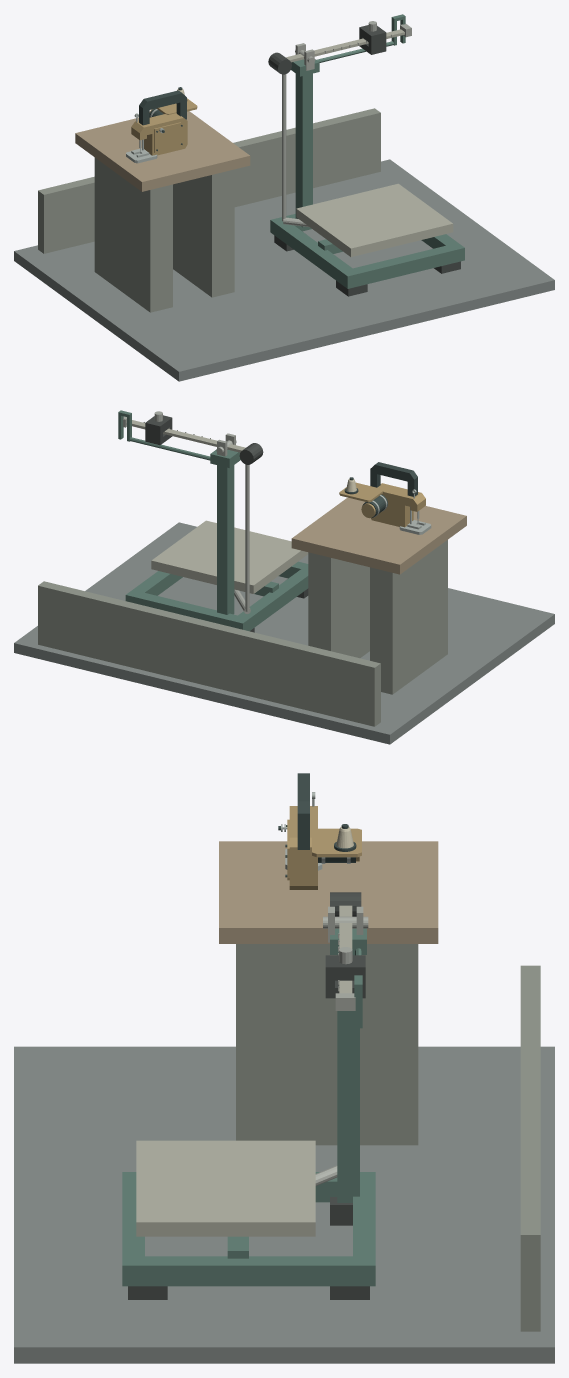
3 renders of one model, top to bottom at view 1: azimuth 30°, elevation 25°; view 2: azimuth 150°, elevation 25°; view 3: azimuth 270°, elevation 25°, orthographic. The views are drawn at different scales.
Parts seen in each view (by area): view 1: SCENE_ONLY__WholeCommonFloor, SCENE_ONLY__WholeLowRearBoundary, SCENE_ONLY__WholeLeftShelfPier, scale__WholeBroadParcelPlatform, SCENE_ONLY__WholeRightShelfPier, SCENE_ONLY__WholeRaisedLeftShelf, scale__WholeOpenBaseFrame, scale__WholeRearBeamColumn, closer__WholeShortAsymmetricDriveHousing, closer__WholeContinuousOpenCarryFrame, closer__WholePlainFrontCasePlate, scale__WholeVerticalTransferRod (+2 smaller); view 2: SCENE_ONLY__WholeLowRearBoundary, SCENE_ONLY__WholeCommonFloor, SCENE_ONLY__WholeLeftShelfPier, SCENE_ONLY__WholeRaisedLeftShelf, SCENE_ONLY__WholeRightShelfPier, scale__WholeBroadParcelPlatform, scale__WholeOpenBaseFrame, scale__WholeRearBeamColumn, closer__WholeShortAsymmetricDriveHousing, closer__WholeContinuousOpenCarryFrame, scale__WholeVerticalTransferRod, scale__WholeBoredRectangularPoise (+2 smaller); view 3: SCENE_ONLY__WholeCommonFloor, SCENE_ONLY__WholeRightShelfPier, SCENE_ONLY__WholeRaisedLeftShelf, scale__WholeBroadParcelPlatform, scale__WholeOpenBaseFrame, SCENE_ONLY__WholeLowRearBoundary, scale__WholeRearBeamColumn, closer__WholeShortAsymmetricDriveHousing, scale__WholeBoredRectangularPoise, closer__WholeRearSpoolSupportShelf, closer__WholeContinuousOpenCarryFrame, scale__WholeUnequalArmWeighBeam.
Boxes of the visible parts, box(x1,y1,x2,y2) form: SCENE_ONLY__WholeCommonFloor: box(14, 159, 554, 381); SCENE_ONLY__WholeLowRearBoundary: box(38, 108, 380, 253); SCENE_ONLY__WholeLeftShelfPier: box(94, 157, 172, 312); scale__WholeBroadParcelPlatform: box(296, 183, 453, 256); SCENE_ONLY__WholeRightShelfPier: box(173, 169, 234, 297); SCENE_ONLY__WholeRaisedLeftShelf: box(75, 111, 250, 191); scale__WholeOpenBaseFrame: box(270, 214, 464, 288); scale__WholeRearBeamColumn: box(295, 59, 312, 227); closer__WholeShortAsymmetricDriveHousing: box(131, 113, 187, 155); closer__WholeContinuousOpenCarryFrame: box(139, 90, 186, 125); closer__WholePlainFrontCasePlate: box(154, 122, 184, 152); scale__WholeVerticalTransferRod: box(282, 74, 286, 221); SCENE_ONLY__WholeLowRearBoundary: box(38, 581, 380, 726); SCENE_ONLY__WholeCommonFloor: box(14, 522, 554, 744); SCENE_ONLY__WholeLeftShelfPier: box(370, 540, 447, 694); SCENE_ONLY__WholeRaisedLeftShelf: box(291, 497, 466, 574); SCENE_ONLY__WholeRightShelfPier: box(308, 552, 369, 658); scale__WholeBroadParcelPlatform: box(151, 520, 308, 593); scale__WholeOpenBaseFrame: box(125, 561, 308, 631); scale__WholeRearBeamColumn: box(217, 450, 234, 614); closer__WholeShortAsymmetricDriveHousing: box(371, 483, 425, 527); closer__WholeContinuousOpenCarryFrame: box(370, 462, 417, 496); scale__WholeVerticalTransferRod: box(245, 464, 249, 611); scale__WholeBoredRectangularPoise: box(145, 415, 172, 445); SCENE_ONLY__WholeCommonFloor: box(14, 1046, 554, 1363); SCENE_ONLY__WholeRightShelfPier: box(236, 944, 418, 1145); SCENE_ONLY__WholeRaisedLeftShelf: box(219, 841, 438, 943); scale__WholeBroadParcelPlatform: box(136, 1140, 315, 1236); scale__WholeOpenBaseFrame: box(122, 1172, 375, 1286); SCENE_ONLY__WholeLowRearBoundary: box(520, 965, 540, 1331); scale__WholeRearBeamColumn: box(337, 955, 359, 1202); closer__WholeShortAsymmetricDriveHousing: box(289, 806, 317, 889); scale__WholeBoredRectangularPoise: box(325, 955, 365, 998); closer__WholeRearSpoolSupportShelf: box(312, 828, 361, 857); closer__WholeContinuousOpenCarryFrame: box(297, 773, 309, 849); scale__WholeUnequalArmWeighBeam: box(339, 905, 352, 993).
Size of the model in its own units: 2.5 by 1.35 by 1.9.
